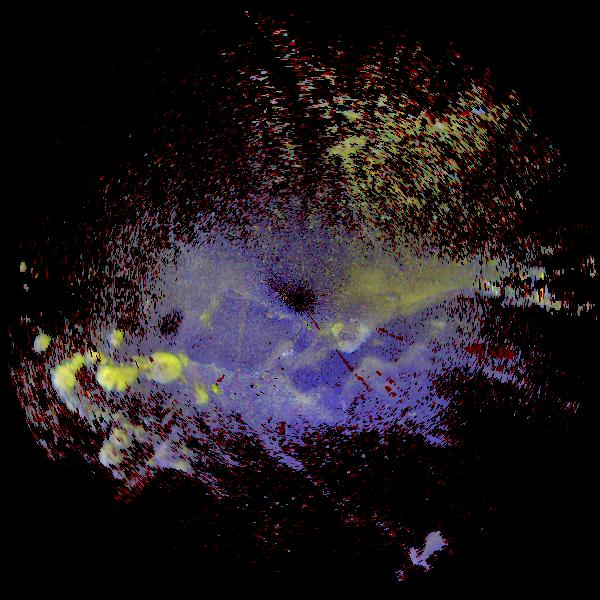roost: (138, 340, 195, 397), (322, 307, 373, 358), (88, 354, 136, 402), (41, 360, 89, 408), (149, 430, 197, 478), (91, 435, 130, 474), (181, 379, 214, 412), (107, 426, 134, 453), (31, 332, 55, 356), (15, 258, 33, 276)
